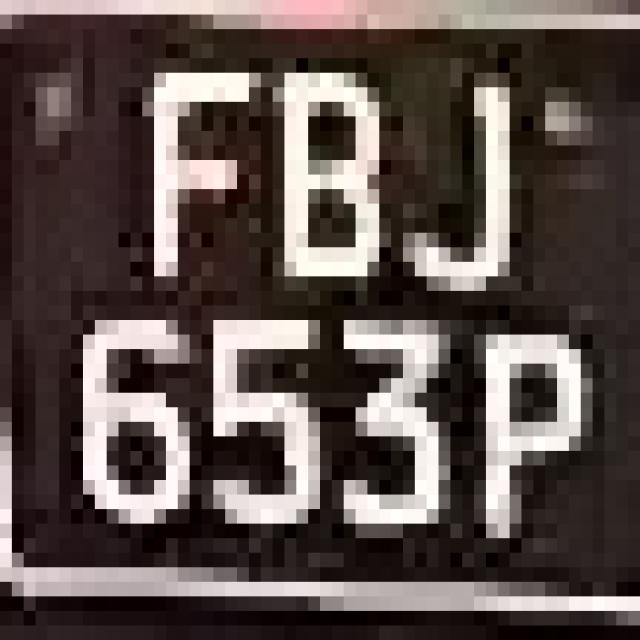3: (284, 305, 462, 553)
5: (190, 262, 332, 538)
6: (60, 291, 202, 524)
B: (249, 43, 391, 334)
F: (130, 14, 249, 291)
J: (379, 44, 522, 306)
P: (474, 276, 581, 582)
